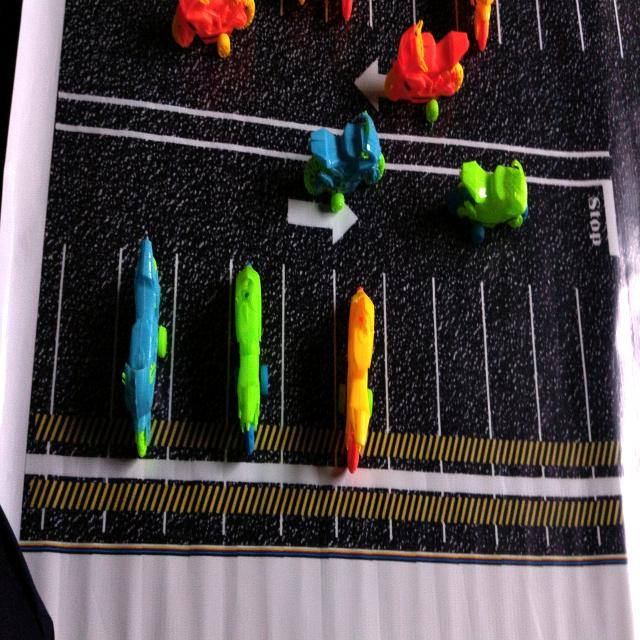bikes: (384, 20, 469, 122), (304, 112, 385, 211), (448, 160, 528, 244)
occupied: (110, 236, 177, 457), (226, 251, 283, 451), (336, 271, 389, 472)
slots: (52, 241, 120, 416), (579, 279, 636, 442), (531, 282, 588, 441), (171, 271, 231, 421), (484, 281, 538, 440), (284, 262, 335, 426), (386, 271, 437, 434), (436, 280, 488, 436)
